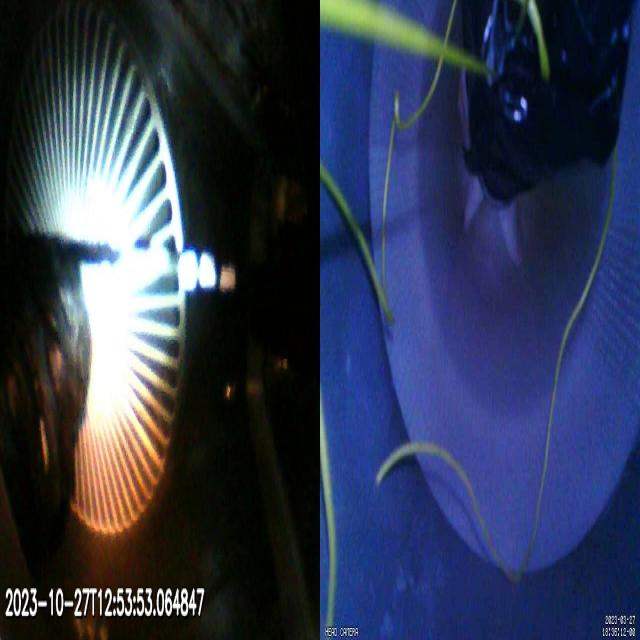white-dots: (176, 250, 236, 292)
